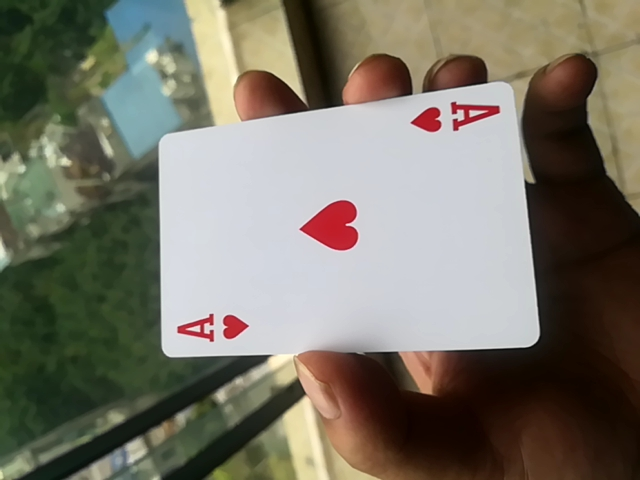hx a: (156, 81, 535, 366)
